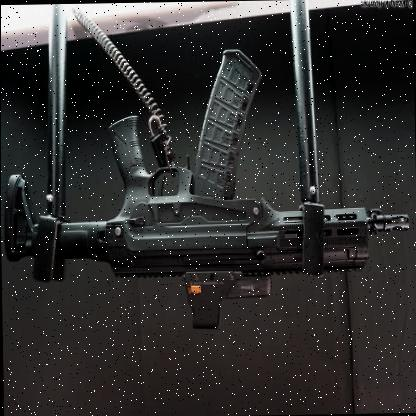rifle: (7, 45, 406, 343)
